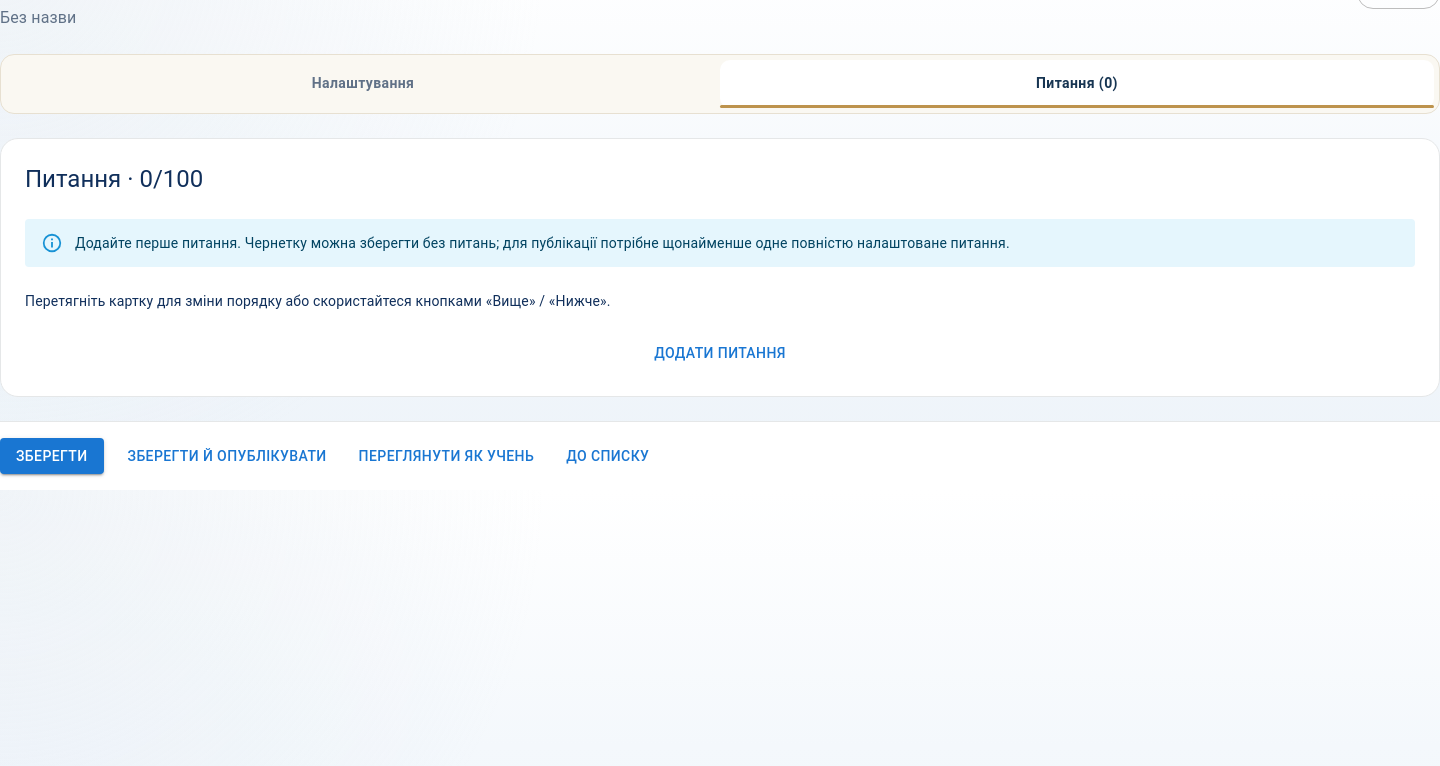
opens settings and focuses the invalid title when saving from the questions tab
The width and height of the screenshot is (1440, 766).
Click the button "Зберегти": (52, 456) [0, 438, 104, 474]
(page scrolled)
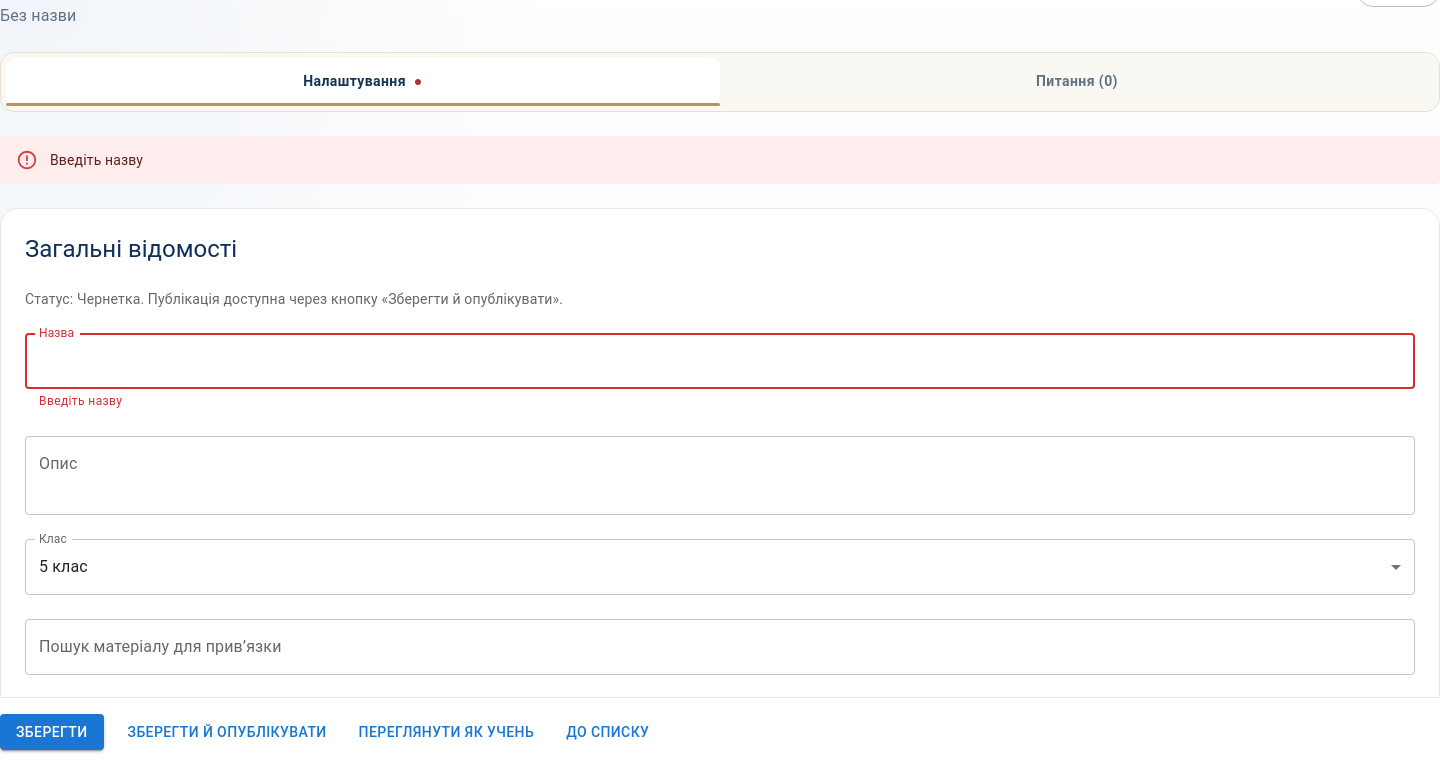
Now the tab "Налаштування ●" is shown, box [6, 58, 720, 106]
